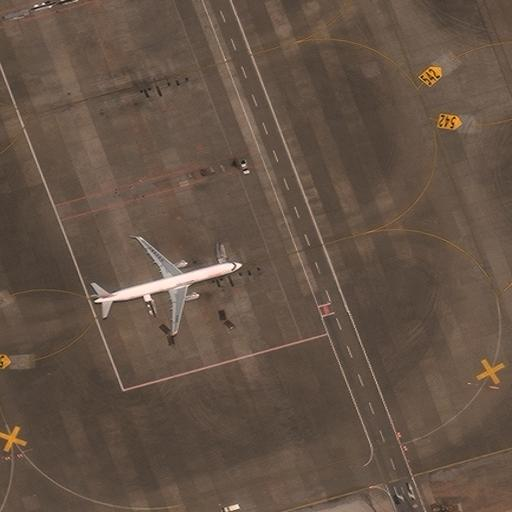Medium Civil Transport: (92, 235, 243, 333)
